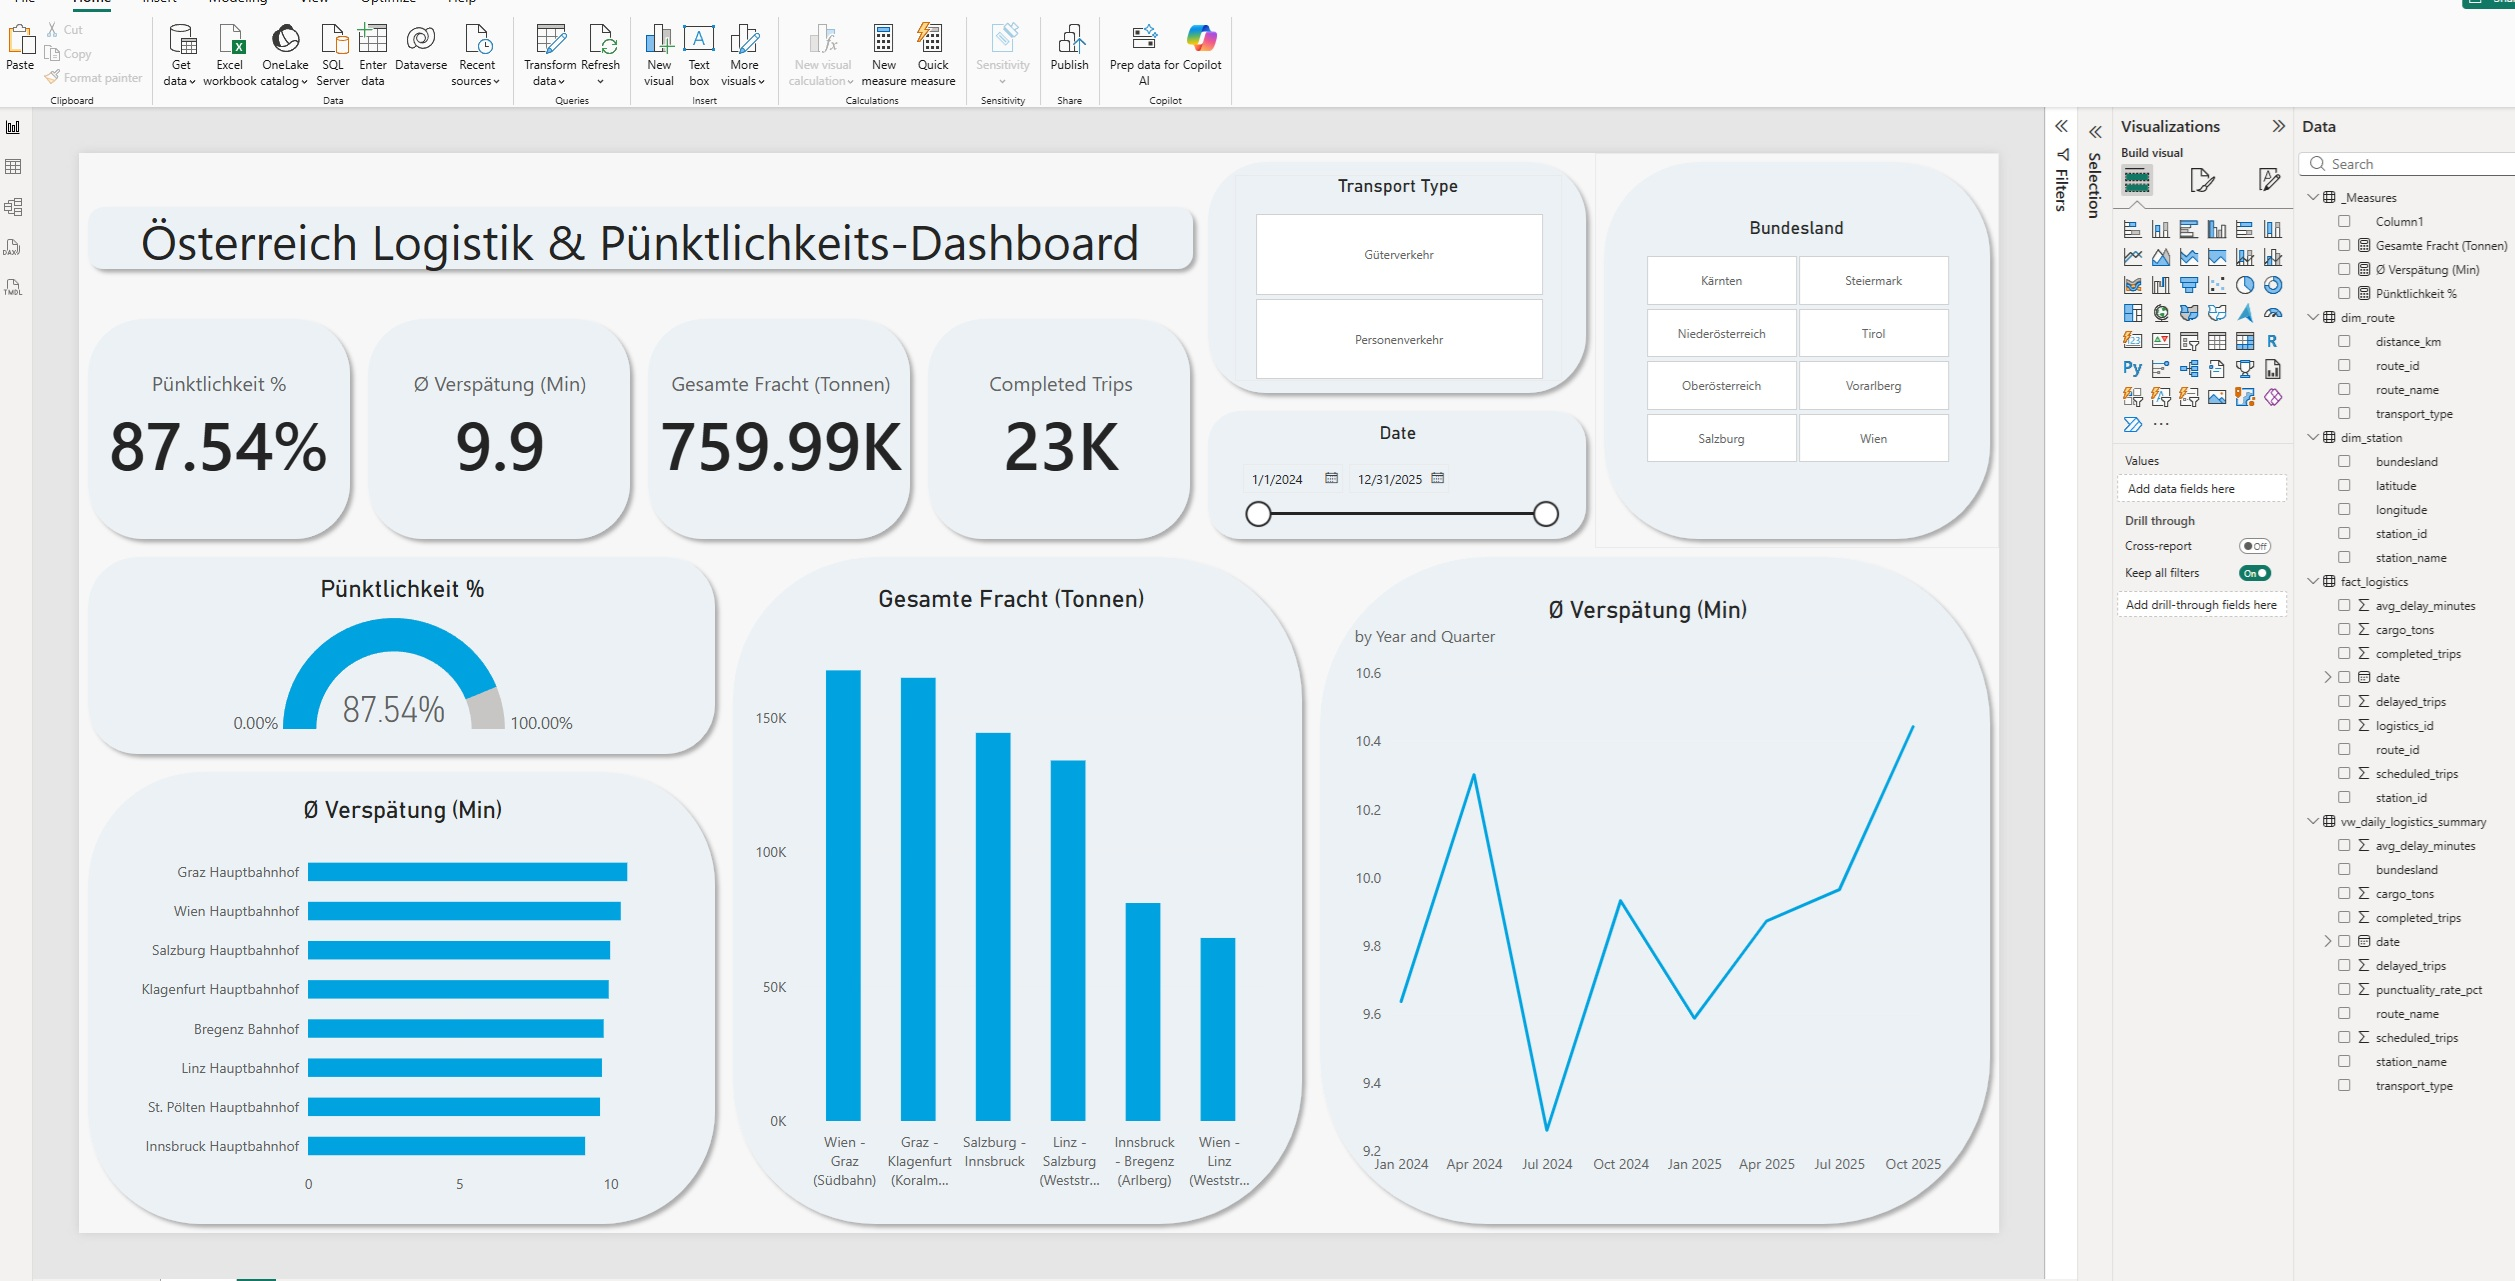

Layout of this report page (visuals, bound fields, positions):
{"tool":"powerbi","page":{"name":"Page 1","canvas":[1920,1080],"ordinal":0},"visuals":[{"type":"group","id":"g1","title":"Background","box":[0,0,1920,1080],"z":0},{"type":"shape","box":[0,45,1123,80],"z":0,"group":"g1"},{"type":"shape","box":[1120,0,396,249],"z":1000,"group":"g1"},{"type":"slicer","title":"Transport Type","fields":{"Values":["dim_route.transport_type"]},"box":[1156,22,327,206],"z":1000},{"type":"shape","box":[1516,0,404,395],"z":2000,"group":"g1"},{"type":"slicer","title":"Bundesland","fields":{"Values":["dim_station.bundesland"]},"box":[1547,64,342,247],"z":2000},{"type":"shape","box":[1120,249,396,146],"z":3000,"group":"g1"},{"type":"slicer","title":"Date","fields":{"Values":["fact_logistics.date"]},"box":[1156,269,327,126],"z":3000},{"type":"cardVisual","fields":{"Data":["_Measures.Pünktlichkeit %"]},"box":[0,157,281,238],"z":4000},{"type":"shape","box":[840,157,280,238],"z":4000,"group":"g1"},{"type":"cardVisual","fields":{"Data":["_Measures.Ø Verspätung (Min)"]},"box":[281,157,281,238],"z":5000},{"type":"shape","box":[560,157,280,238],"z":5000,"group":"g1"},{"type":"shape","box":[280,157,280,238],"z":6000,"group":"g1"},{"type":"cardVisual","fields":{"Data":["_Measures.Gesamte Fracht (Tonnen)"]},"box":[562,157,281,238],"z":6000},{"type":"shape","box":[0,157,280,238],"z":7000,"group":"g1"},{"type":"cardVisual","fields":{"Data":["Sum(fact_logistics.completed_trips)"]},"box":[842,157,281,238],"z":7000},{"type":"shape","box":[0,395,645,215],"z":8000,"group":"g1"},{"type":"gauge","fields":{"Y":["_Measures.Pünktlichkeit %"]},"box":[32,408,584,189],"z":8000},{"type":"shape","box":[1232,395,688,685],"z":9000,"group":"g1"},{"type":"clusteredBarChart","title":"Ø Verspätung (Min)","fields":{"Category":["dim_station.station_name"],"Y":["_Measures.Ø Verspätung (Min)"]},"box":[32,629,584,433],"z":9000},{"type":"shape","box":[645,395,587,685],"z":10000,"group":"g1"},{"type":"columnChart","title":"Gesamte Fracht (Tonnen)","fields":{"Category":["dim_route.route_name"],"Y":["_Measures.Gesamte Fracht (Tonnen)"]},"box":[660,418,545,637],"z":10000},{"type":"lineChart","fields":{"Category":["fact_logistics.date.Variation.Date Hierarchy.Year","fact_logistics.date.Variation.Date Hierarchy.Quarter","fact_logistics.date.Variation.Date Hierarchy.Month","fact_logistics.date.Variation.Date Hierarchy.Day"],"Y":["_Measures.Ø Verspätung (Min)"]},"box":[1260,429,618,613],"z":11000},{"type":"shape","box":[0,610,645,470],"z":11000,"group":"g1"},{"type":"textbox","box":[2,55,1120,80],"z":12000}]}

Visuals, with their boxes on the page's 1920x1080 design canvas (x1, y1, x2, y2). These are canvas units, not pixel positions in the 2515x1281 screenshot, which may show the page scaled, cropped or inside an application window:
"Background" group: bbox(0, 0, 1920, 1080)
shape: bbox(0, 45, 1123, 125)
shape: bbox(1120, 0, 1516, 249)
"Transport Type" slicer: bbox(1156, 22, 1483, 228)
shape: bbox(1516, 0, 1920, 395)
"Bundesland" slicer: bbox(1547, 64, 1889, 311)
shape: bbox(1120, 249, 1516, 395)
"Date" slicer: bbox(1156, 269, 1483, 395)
cardVisual - _Measures.Pünktlichkeit %: bbox(0, 157, 281, 395)
shape: bbox(840, 157, 1120, 395)
cardVisual - _Measures.Ø Verspätung (Min): bbox(281, 157, 562, 395)
shape: bbox(560, 157, 840, 395)
shape: bbox(280, 157, 560, 395)
cardVisual - _Measures.Gesamte Fracht (Tonnen): bbox(562, 157, 843, 395)
shape: bbox(0, 157, 280, 395)
cardVisual - Sum(fact_logistics.completed_trips): bbox(842, 157, 1123, 395)
shape: bbox(0, 395, 645, 610)
gauge - _Measures.Pünktlichkeit %: bbox(32, 408, 616, 597)
shape: bbox(1232, 395, 1920, 1080)
"Ø Verspätung (Min)" clusteredBarChart: bbox(32, 629, 616, 1062)
shape: bbox(645, 395, 1232, 1080)
"Gesamte Fracht (Tonnen)" columnChart: bbox(660, 418, 1205, 1055)
lineChart - fact_logistics.date.Variation.Date Hierarchy.Year x fact_logistics.date.Variation.Date Hierarchy.Quarter: bbox(1260, 429, 1878, 1042)
shape: bbox(0, 610, 645, 1080)
textbox: bbox(2, 55, 1122, 135)
